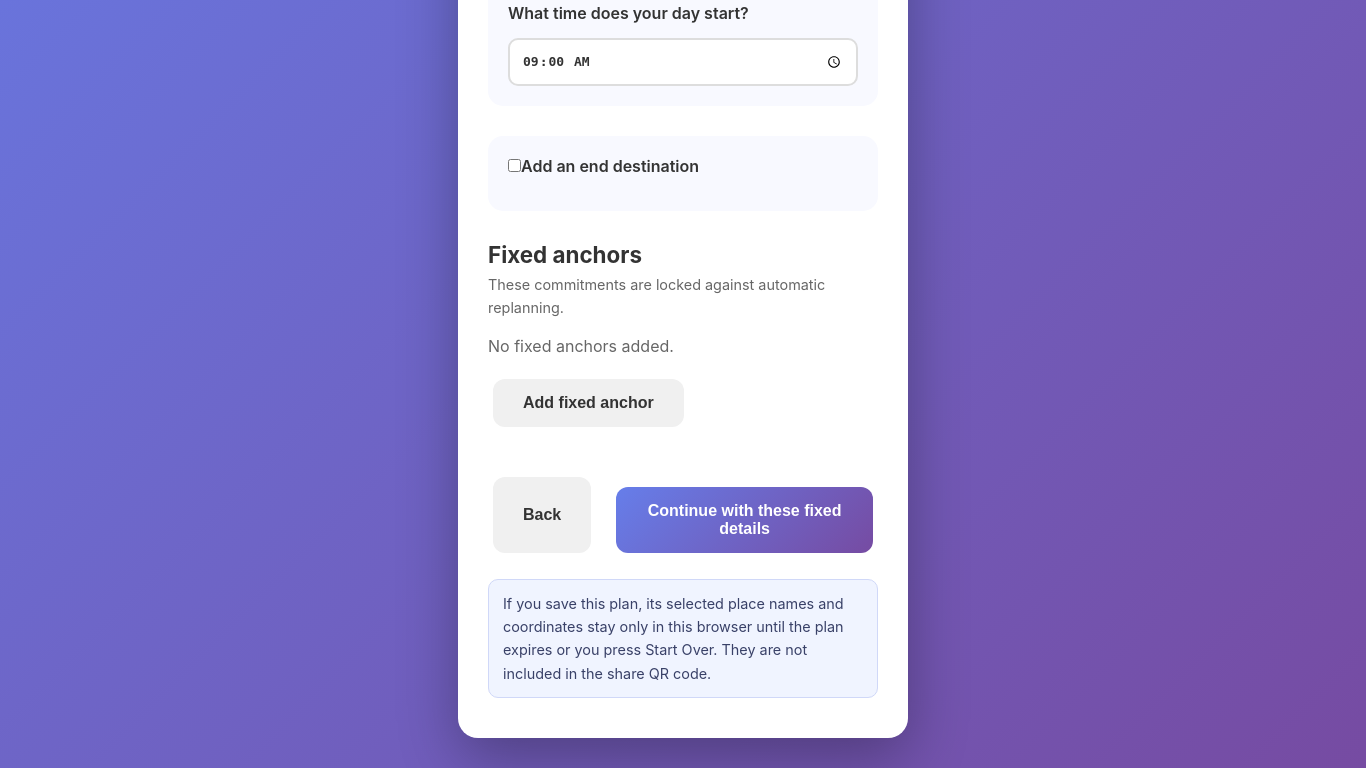
Scenario: planning input stage requires a verified start place
This screenshot has width=1366, height=768.
(page scrolled)
Click the button "Continue with these fixed details" at point(745, 520), box [616,487,873,553]
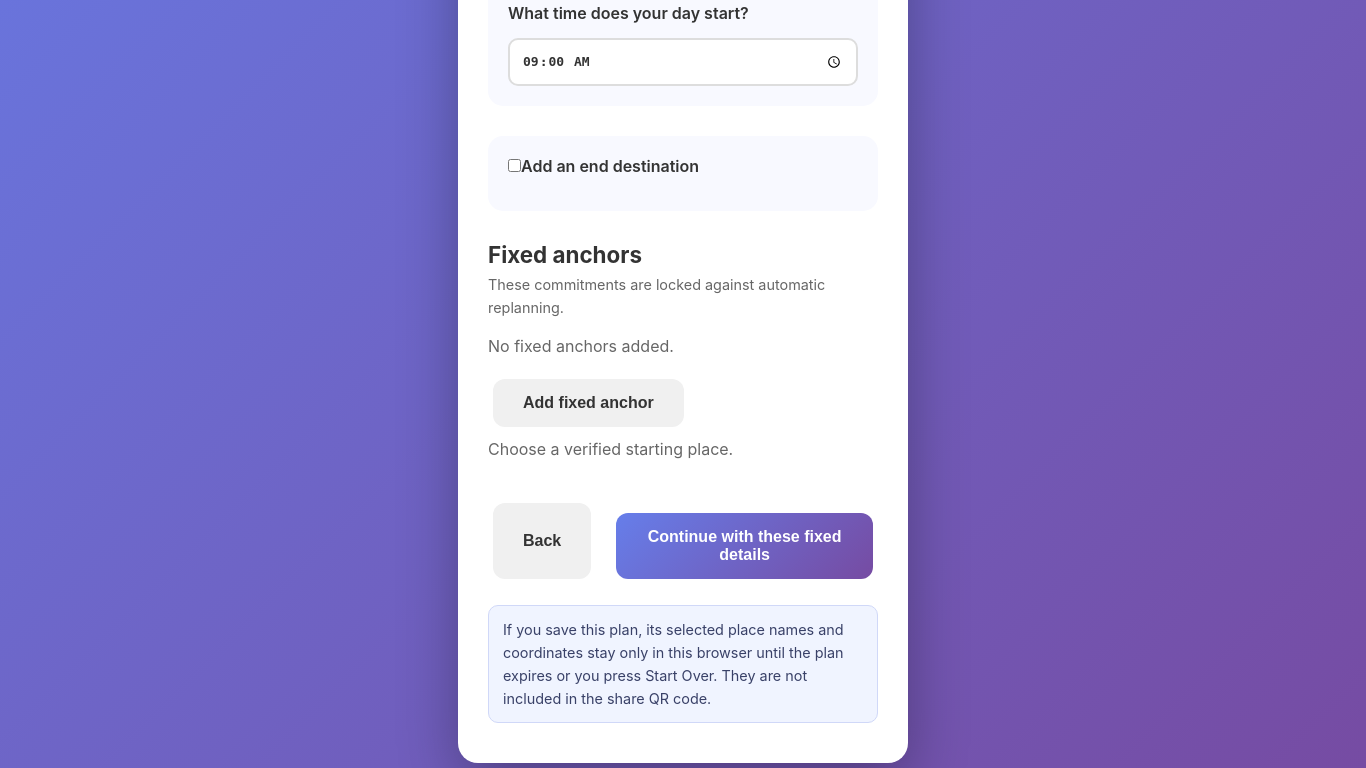
Expected: the message reads "Choose a verified starting place.", [488,439,733,459]
